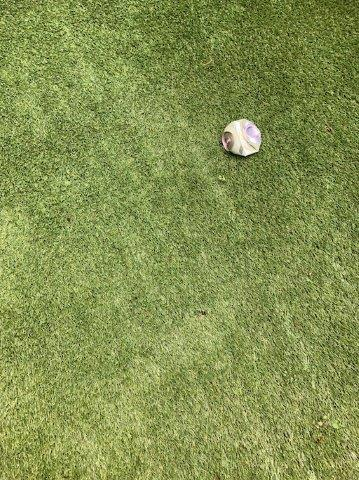kaleng: (223, 121, 261, 156)
